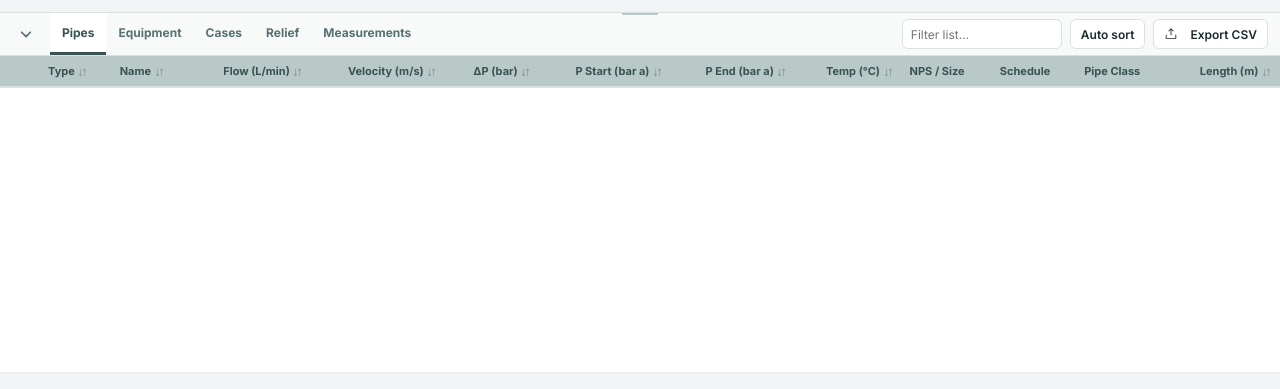
Test: relief analysis matrix › asks for a re-run on results from before the relief analysis
What coordinates should you click on to do the following:
click the button "Relief"
I would click on:
 (283, 34)
Its box is top-left (254, 13), bottom-right (311, 55).
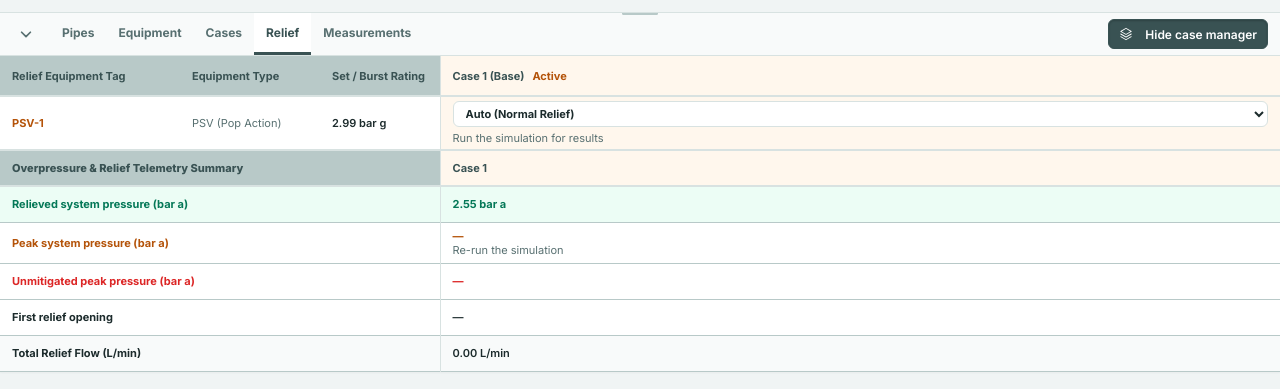
Expected: the text "Re-run the simulation" is shown, top-left (452, 242), bottom-right (564, 256)
